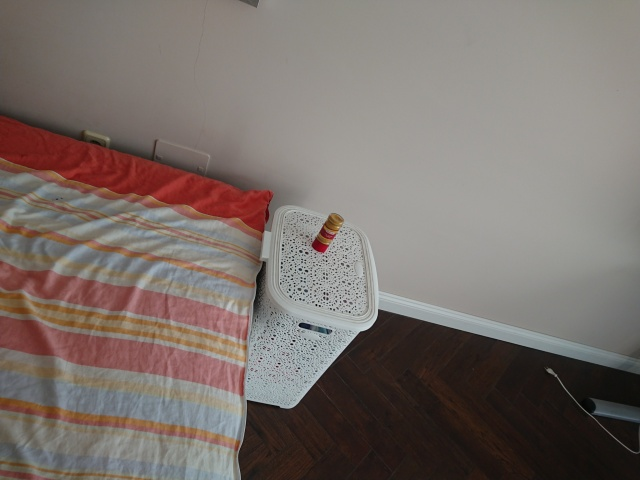Kotanyi Curry Spices Mix 70g: (310, 211, 346, 255)
